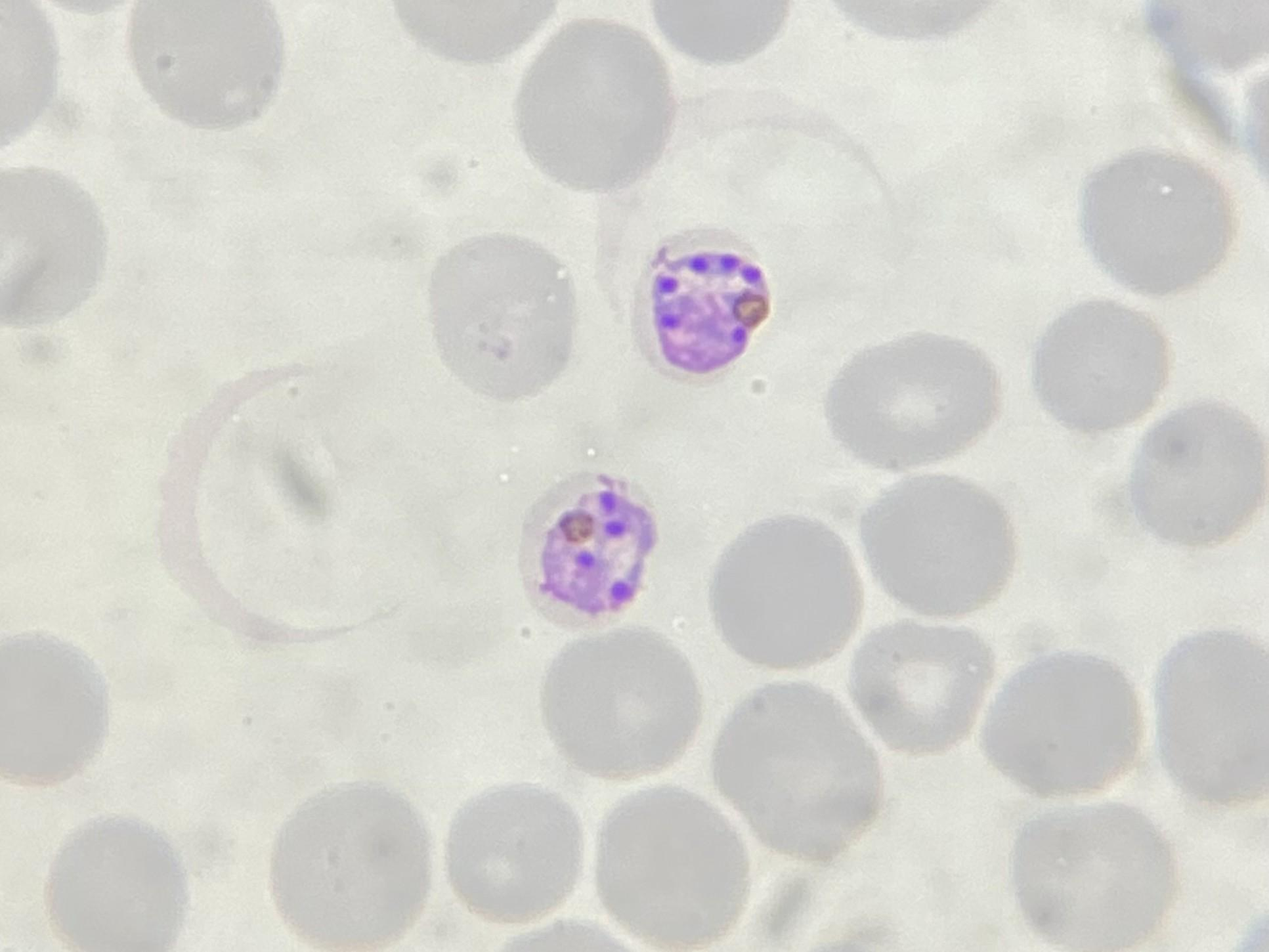Infected: (613, 316, 745, 484), (501, 563, 633, 723)
Uninfected: (385, 75, 559, 278), (834, 0, 995, 175), (593, 762, 756, 928), (519, 1, 671, 172), (567, 163, 724, 328), (409, 272, 556, 446), (696, 548, 842, 721), (125, 152, 292, 302), (96, 0, 261, 150), (267, 482, 436, 621), (37, 657, 188, 808), (269, 196, 426, 335), (258, 333, 404, 481), (0, 403, 140, 557), (985, 815, 1141, 952), (685, 18, 821, 167), (0, 143, 115, 318), (1155, 620, 1269, 796), (101, 515, 239, 653), (1081, 1, 1221, 135), (1153, 167, 1269, 316)
